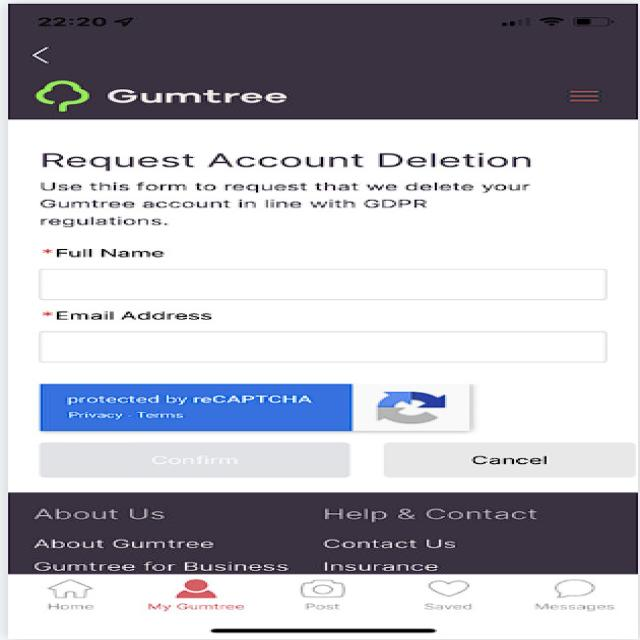button: (6, 434, 370, 486), (367, 433, 640, 485)
icon button: (140, 572, 270, 620), (270, 571, 380, 621), (407, 571, 505, 625), (526, 576, 630, 620), (26, 574, 114, 617), (549, 80, 616, 108), (27, 38, 80, 67)
input: (6, 237, 640, 310), (12, 307, 630, 374)
text: (21, 142, 597, 236)
